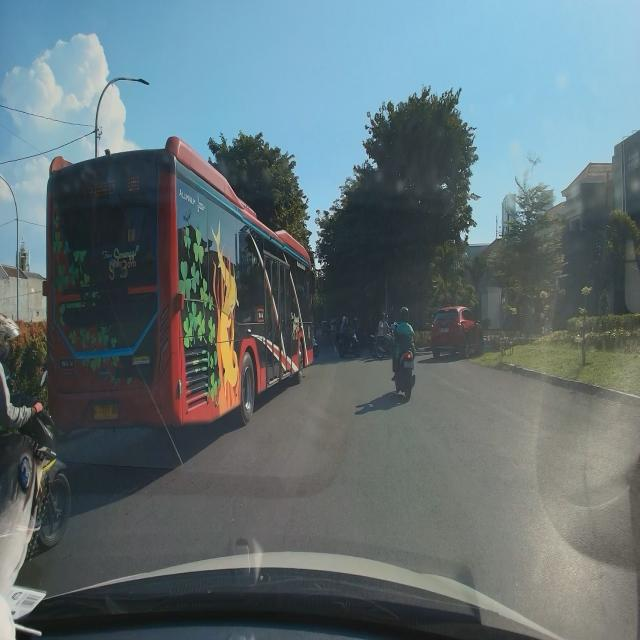bus: (46, 136, 314, 430)
car: (429, 304, 484, 359)
license-plate: (93, 403, 118, 420), (440, 327, 449, 333)
